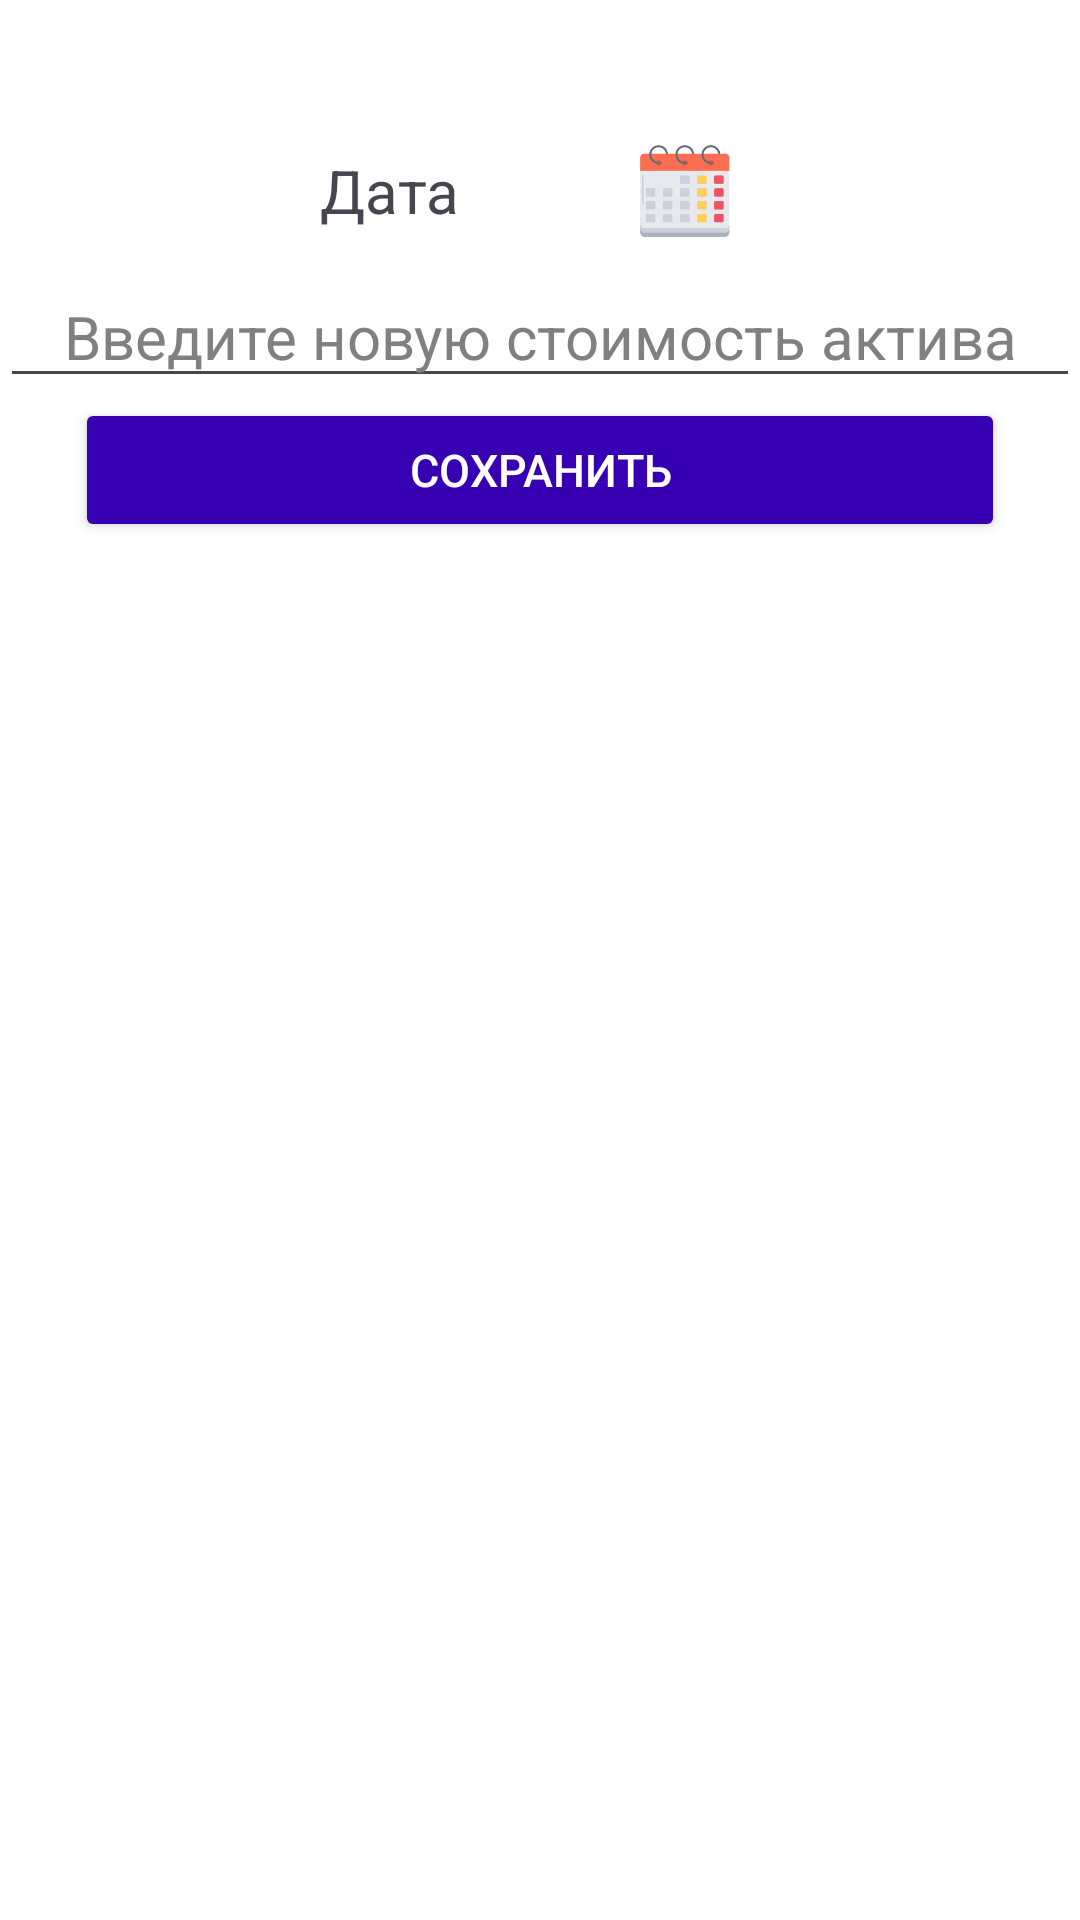

Named icons in this screenshot (1080*1920) and their centers, point (x, y):
calendar: point (685, 191)
